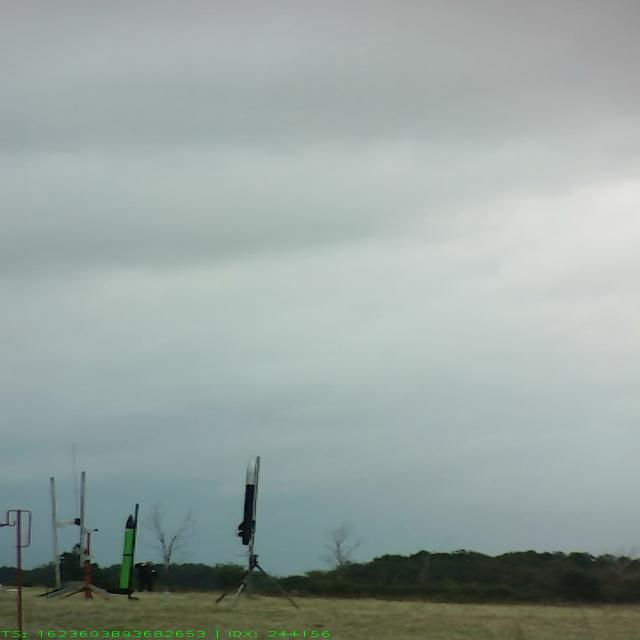Rocket: (106, 513, 136, 595), (236, 457, 256, 545)
